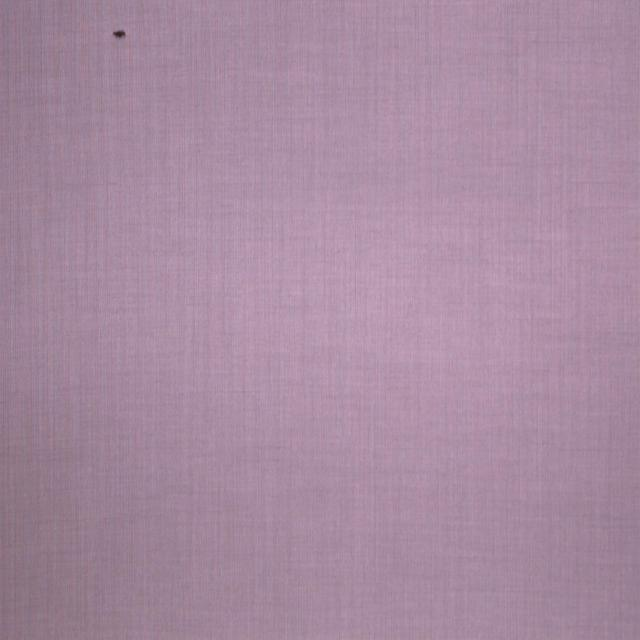dirty: (113, 28, 126, 40)
